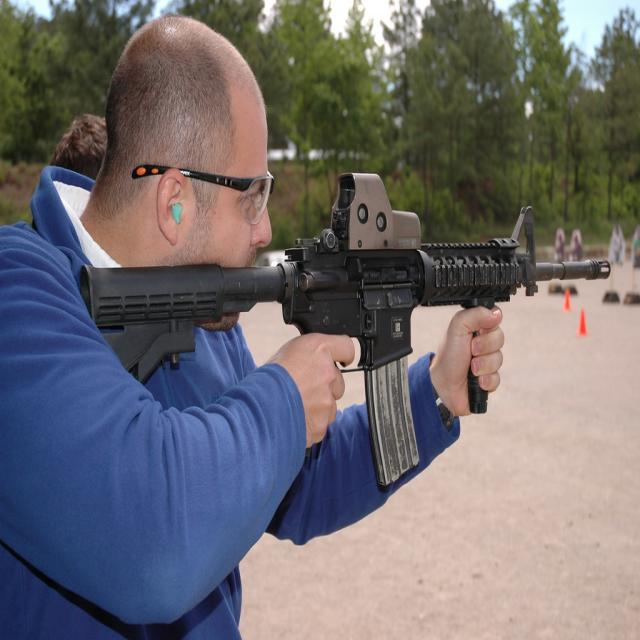weapon: (81, 171, 608, 483)
